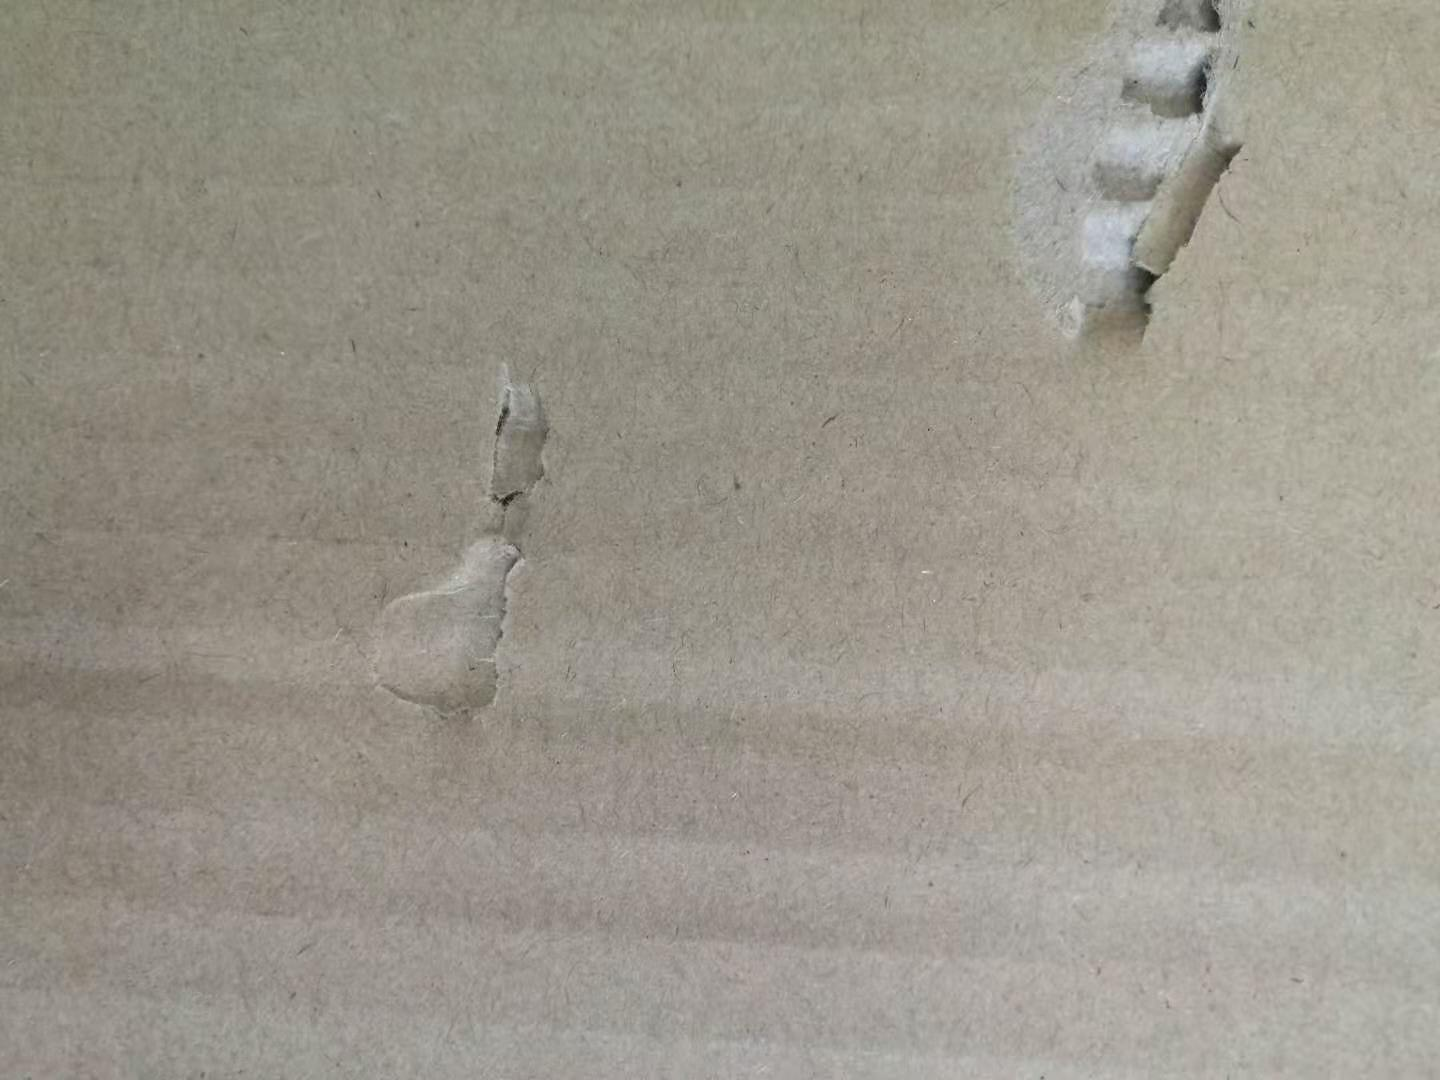defect: (979, 1, 1293, 379), (340, 343, 601, 757)
